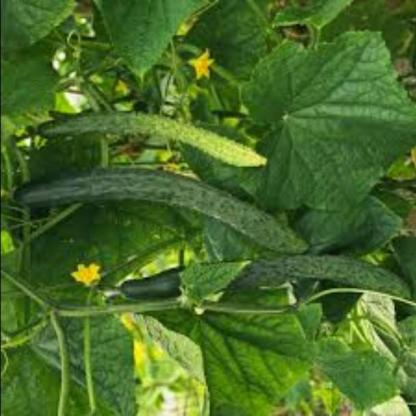cucumber: (15, 164, 323, 255), (95, 243, 415, 321), (23, 99, 296, 170)
